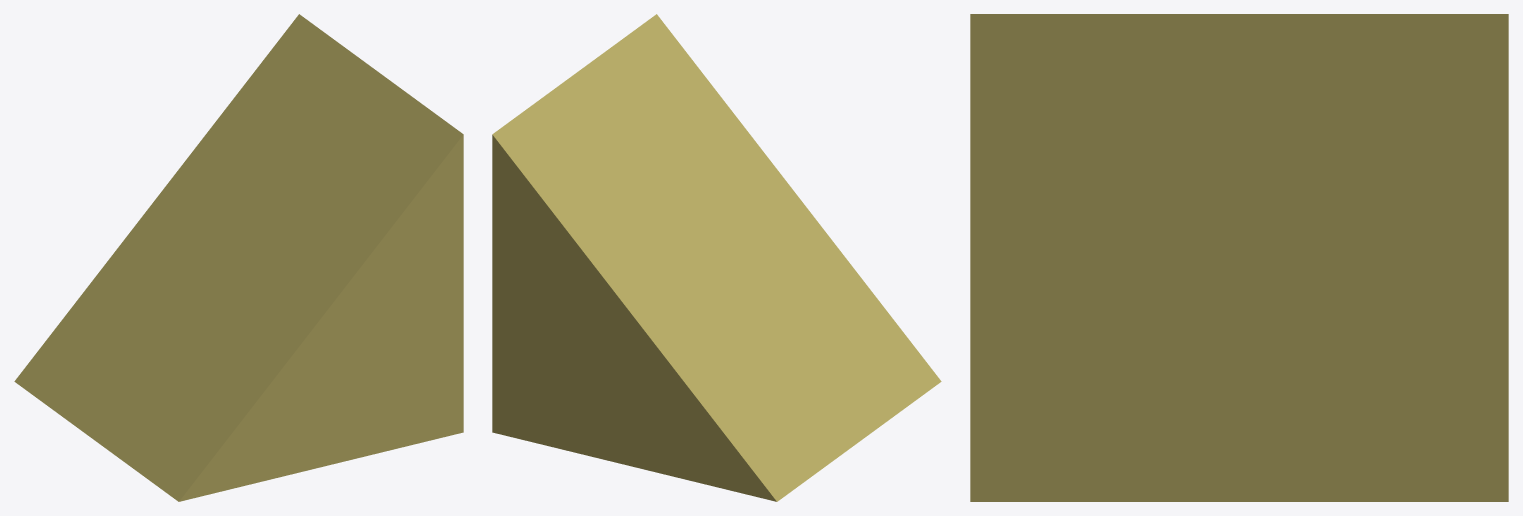
Rendered from Goal_Slope.glb.
The picture shows the model from 3 angles, left to right: view 1: azimuth 30°, elevation 25°; view 2: azimuth 150°, elevation 25°; view 3: azimuth 270°, elevation 25°; orthographic projection. The views are drawn at different scales.
Visible parts, largest first — view 1: Goal_Slope_body; view 2: Goal_Slope_body; view 3: Goal_Slope_body.
Boxes of the visible parts, <box> form: Goal_Slope_body: <box>14,14,463,501</box>; Goal_Slope_body: <box>492,14,941,501</box>; Goal_Slope_body: <box>970,14,1508,501</box>.
Size of the model in its own units: 1 by 1 by 1.
